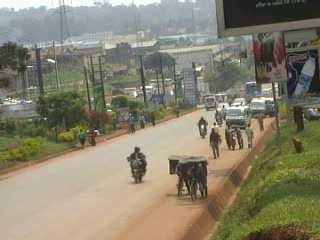Car: (229, 96, 249, 110), (215, 101, 231, 116)
Motorcycle: (124, 145, 149, 183), (224, 126, 238, 152), (196, 117, 209, 139), (212, 112, 224, 129), (220, 105, 227, 120)
